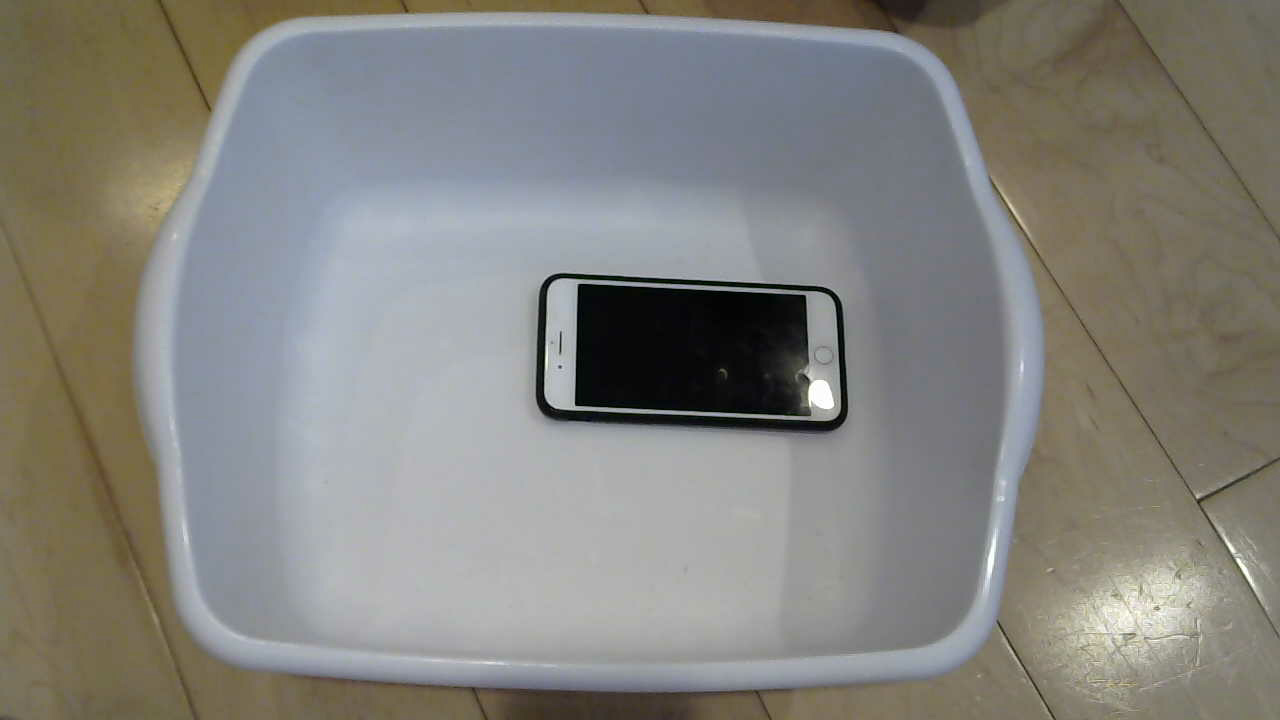phone: (486, 253, 860, 446)
